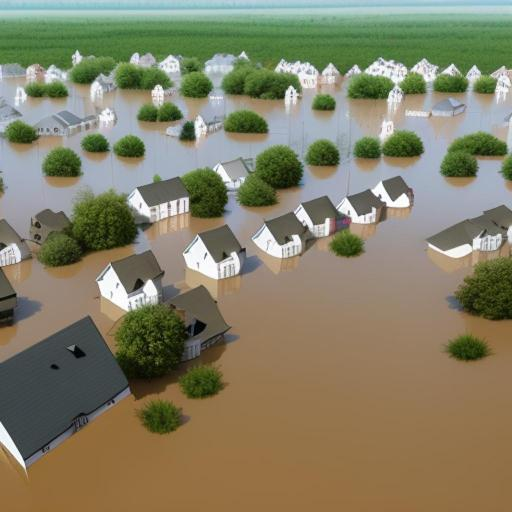house: (0, 309, 138, 500), (143, 284, 231, 360), (424, 202, 512, 261), (96, 250, 164, 314), (184, 223, 244, 281), (127, 174, 191, 228), (252, 213, 304, 268), (364, 174, 418, 218), (293, 192, 341, 240), (29, 110, 98, 138), (339, 188, 384, 226), (214, 156, 258, 191), (33, 208, 72, 246), (428, 95, 466, 119), (493, 67, 512, 99), (284, 84, 300, 103)
